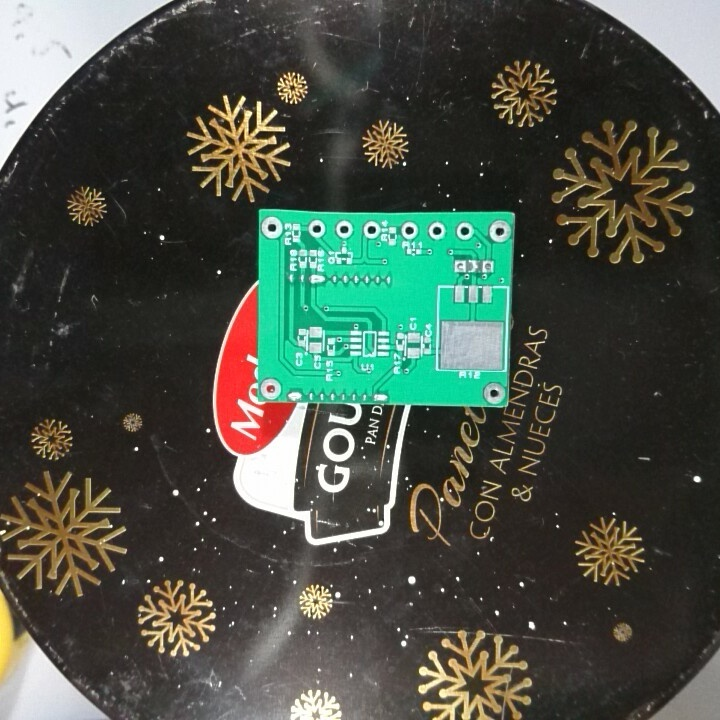F: (485, 218, 512, 246), (259, 213, 283, 243), (259, 375, 284, 400), (333, 216, 356, 243), (305, 217, 329, 242), (481, 380, 507, 403), (361, 218, 381, 243), (399, 218, 421, 240), (455, 220, 476, 242), (425, 221, 449, 240), (479, 258, 497, 276), (452, 257, 470, 275)
P: (306, 273, 328, 288), (370, 392, 391, 406), (285, 389, 304, 404)
